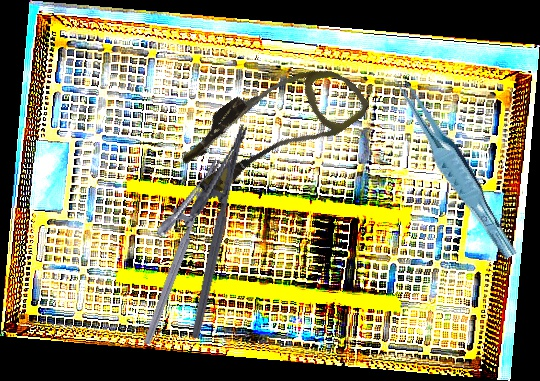Cannula: (170, 36, 373, 218)
Needle Holder: (117, 148, 222, 346), (161, 116, 250, 340)
Tissue Forceps: (391, 64, 519, 268)
